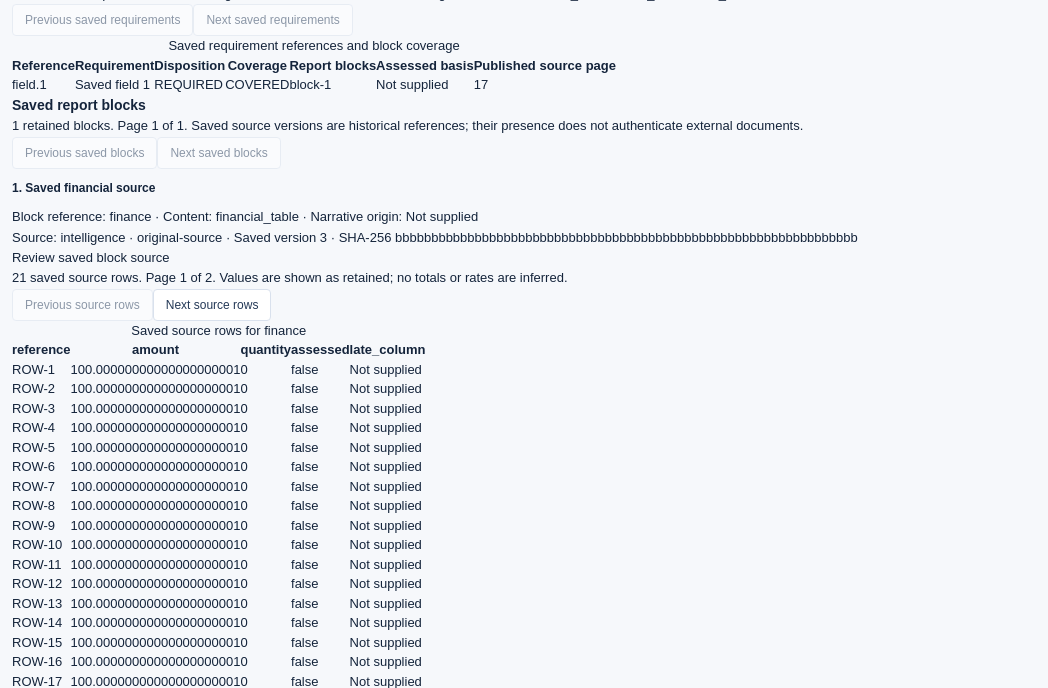
retained statutory report preview › retains late source columns and pages original rows independently of report requirements
(page scrolled)
Expected: the column heading "late_column" is shown, [350,340,426,360]
Expected: the text "Retained last-row detail" is not shown
Click the button "Next source rows": point(212, 305) [153,289,271,321]
(page scrolled)
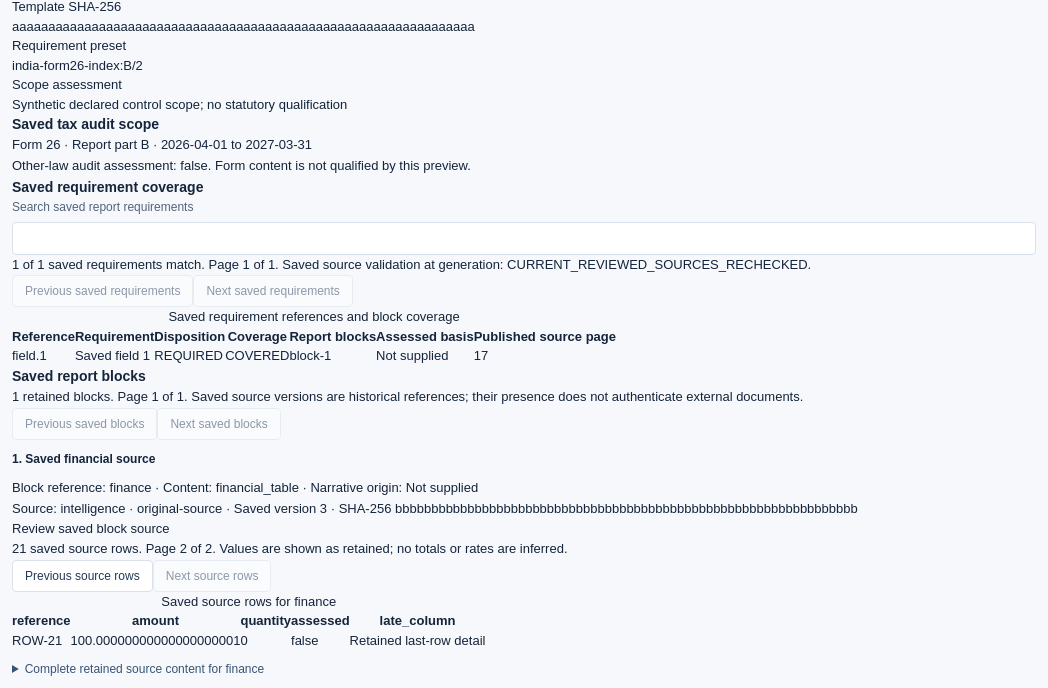
Expected: the cell "100.00000000000000000001" is shown, [70,631,240,650]
Result: the text "Retained last-row detail" is shown at [350,631,486,650]
Result: the button "Next source rows" is disabled at [153,560,271,592]
